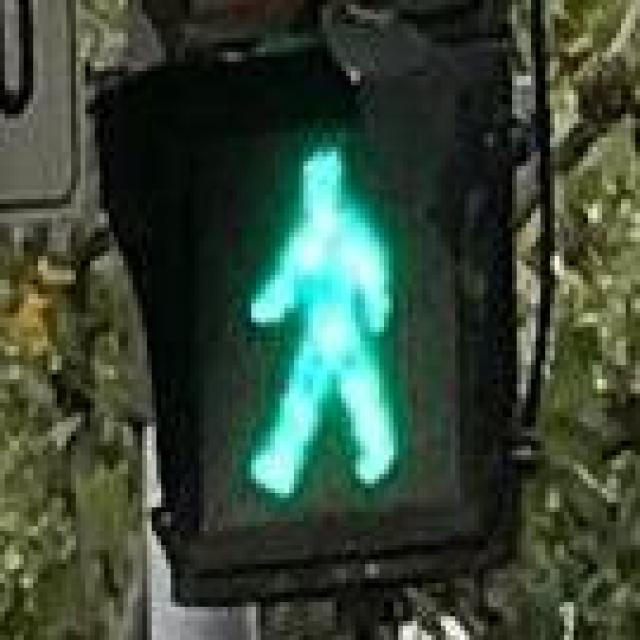geen-crossing: (171, 100, 460, 526)
